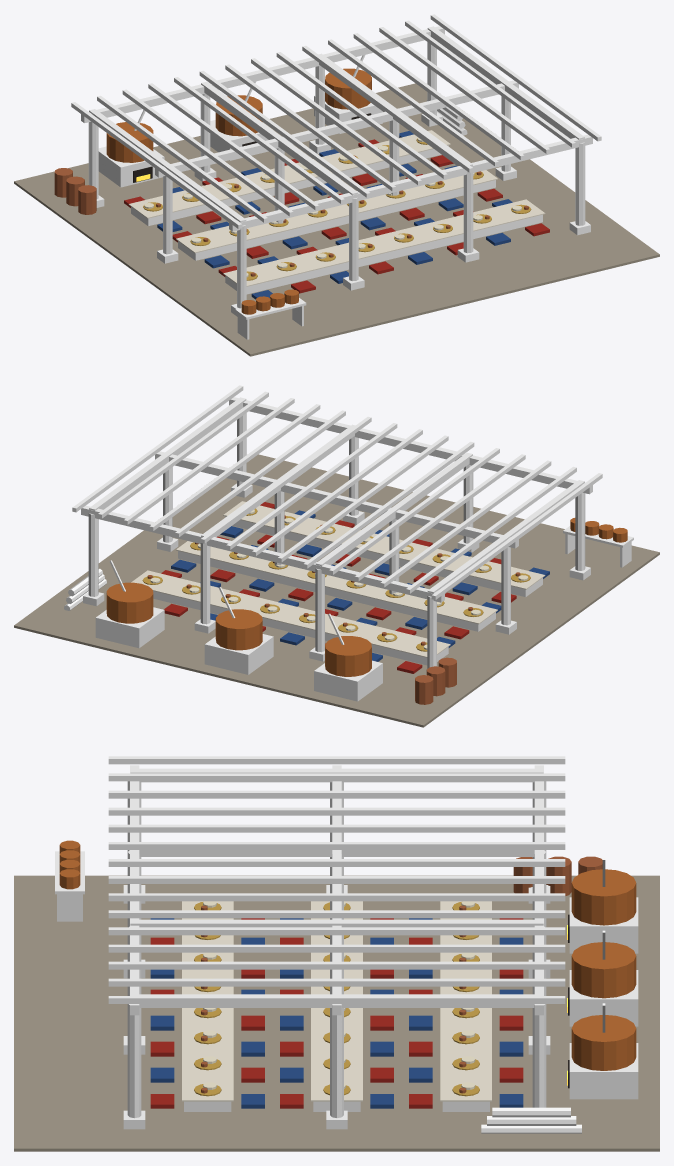
Rendered from hayiryeri.glb.
3 views of the same model, one above another, from view 1: azimuth 30°, elevation 25°; view 2: azimuth 150°, elevation 25°; view 3: azimuth 270°, elevation 25° (orthographic). The views are drawn at different scales.
Parts seen in each view (by area): view 1: Direk; view 2: Direk; view 3: Direk.
Part boxes in pixels (bbox=[...]): Direk: bbox=[14, 14, 659, 356]; Direk: bbox=[14, 385, 659, 727]; Direk: bbox=[14, 756, 659, 1151].
Size of the model in its own units: 1 by 0.2347 by 1.
